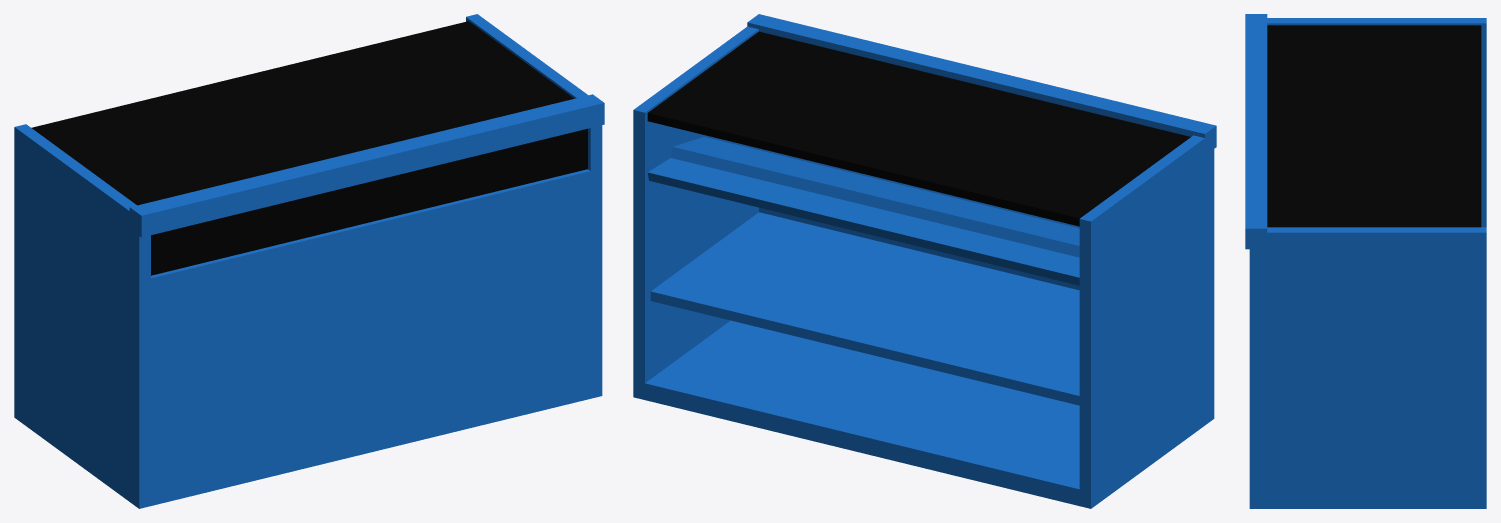
The model's file is SM_showcase_2.fbx.
3 renders of one model, left to right at view 1: azimuth 30°, elevation 25°; view 2: azimuth 150°, elevation 25°; view 3: azimuth 270°, elevation 25°, orthographic. The views are drawn at different scales.
Parts seen in each view (by area): view 1: Cube_17; view 2: Cube_17; view 3: Cube_17.
Boxes of the visible parts, x1,y1,x2,y2 form: Cube_17: (14,14,604,508); Cube_17: (633,14,1216,508); Cube_17: (1245,14,1486,508).
Size of the model in its own units: 150 by 91.27 by 71.27.
